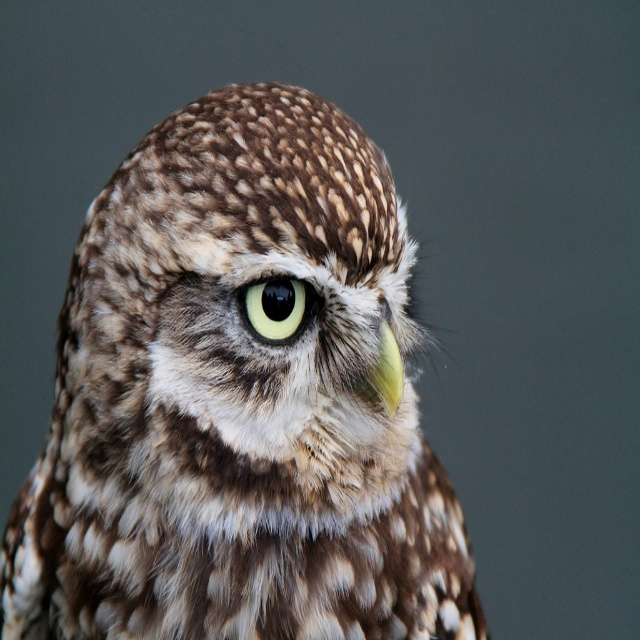Owl: (0, 73, 493, 639)
